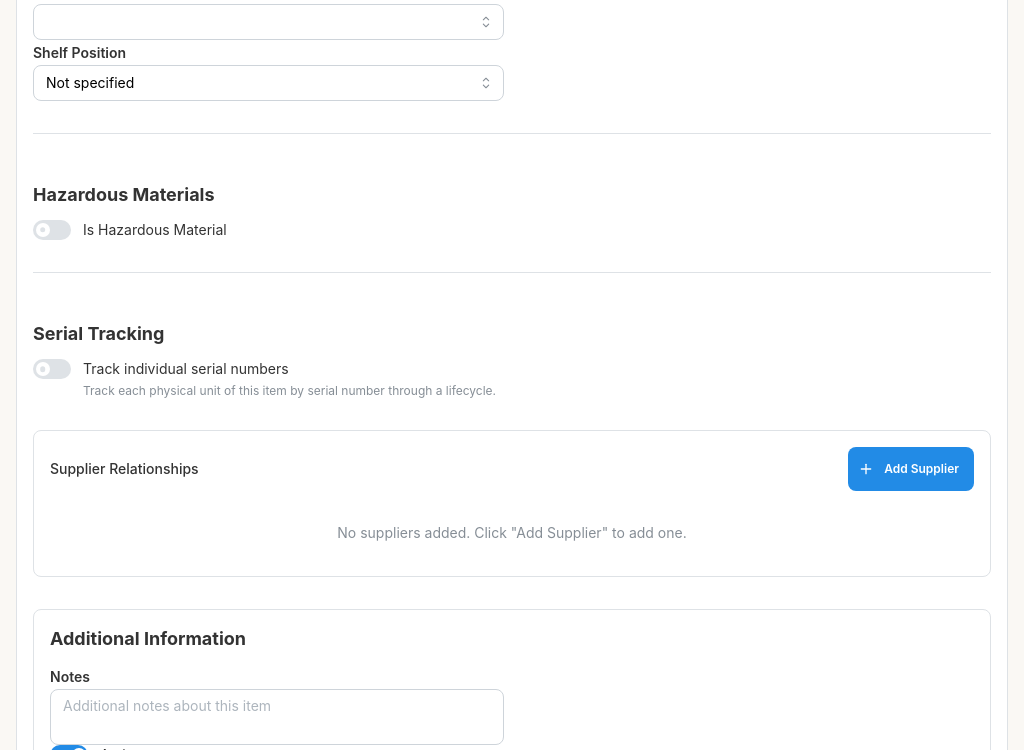
Test case: InventoryItemFormPage › reveals the tracking-mode select when serialization is enabled
(page scrolled)
Click the switch labelled "Track individual serial numbers" at (268, 379), box [33,359,504,398]
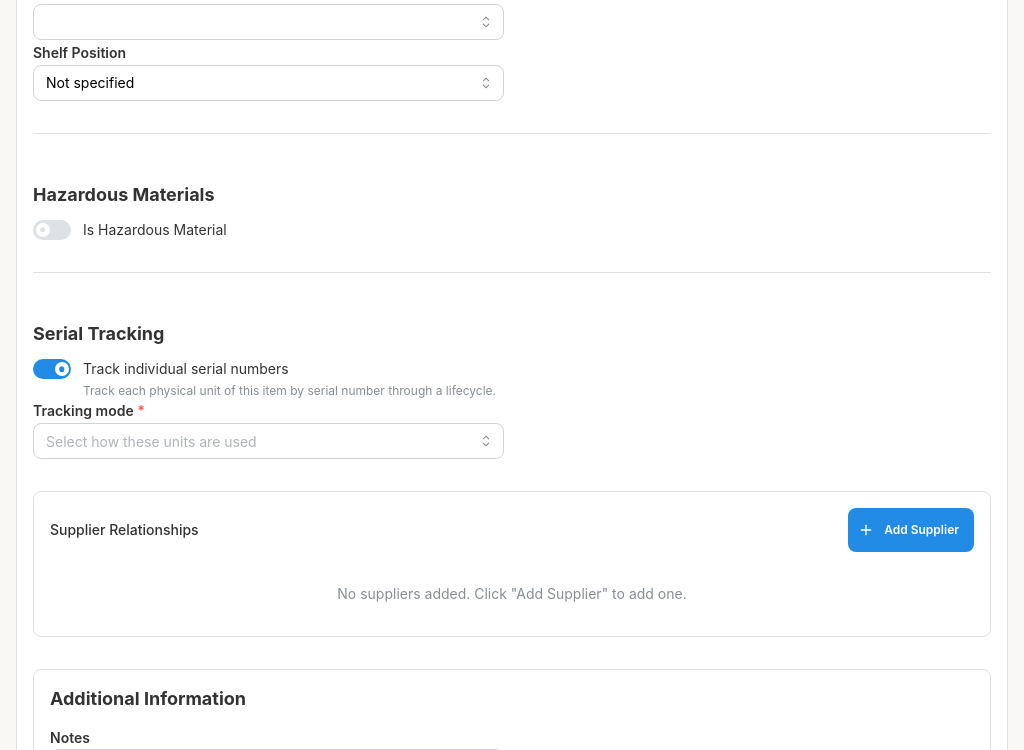
Result: the dropdown with placeholder "Select how these units are used" is shown at [33,423,504,459]
